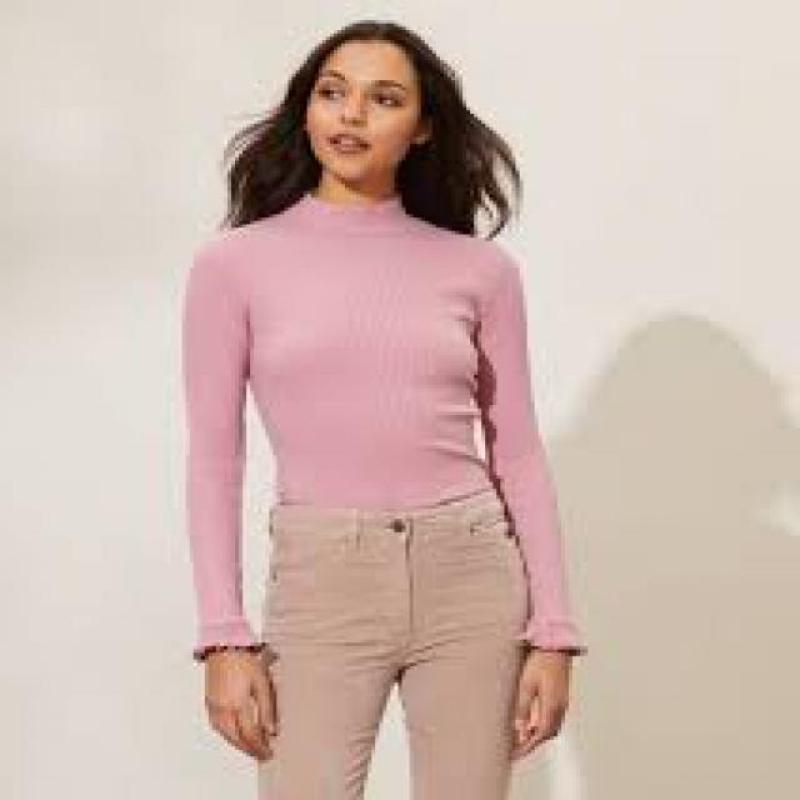sweater: (189, 193, 591, 660)
trousers: (252, 496, 534, 800)
